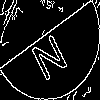N: (25, 24, 70, 83)
